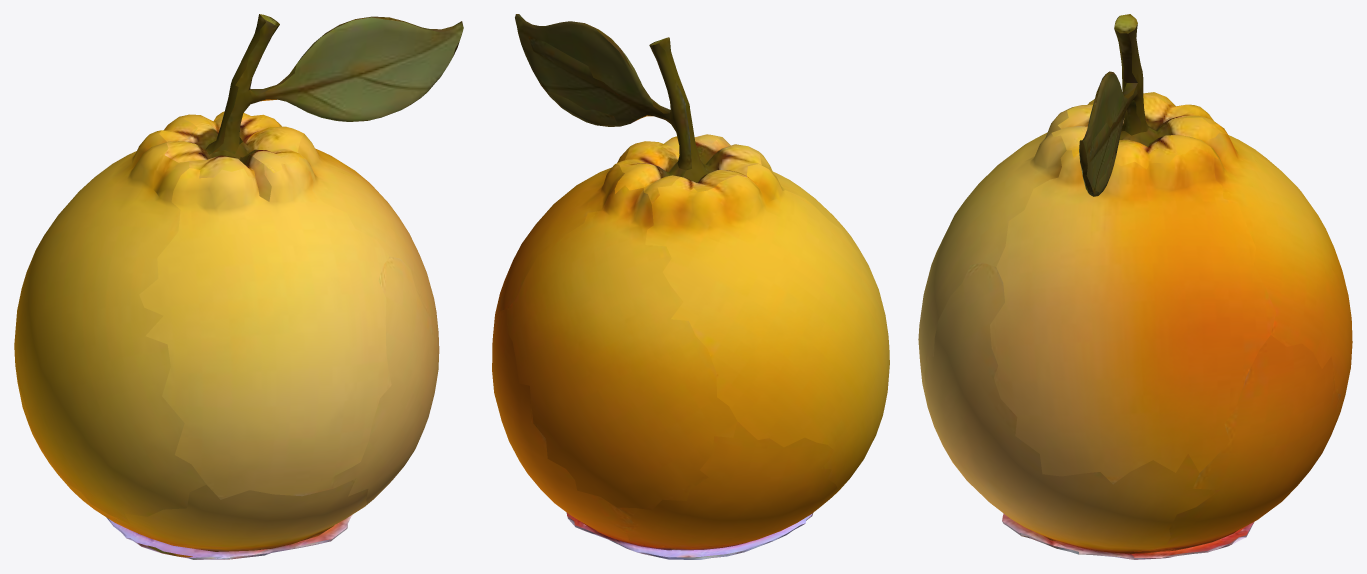
Rendered from yuzu.glb.
3 views of the same model, side by side, from view 1: azimuth 30°, elevation 25°; view 2: azimuth 150°, elevation 25°; view 3: azimuth 270°, elevation 25° (orthographic). The views are drawn at different scales.
Parts seen in each view (by area): view 1: item_yuzu; view 2: item_yuzu; view 3: item_yuzu.
Boxes of the visible parts, x1=… form: item_yuzu: x1=14, y1=14, x2=463, y2=559; item_yuzu: x1=492, y1=14, x2=889, y2=559; item_yuzu: x1=918, y1=14, x2=1352, y2=559.
Bounding box in the file's own units: 0.8474 × 1 × 0.7771.
Materials: 1 (1 with a texture image).
